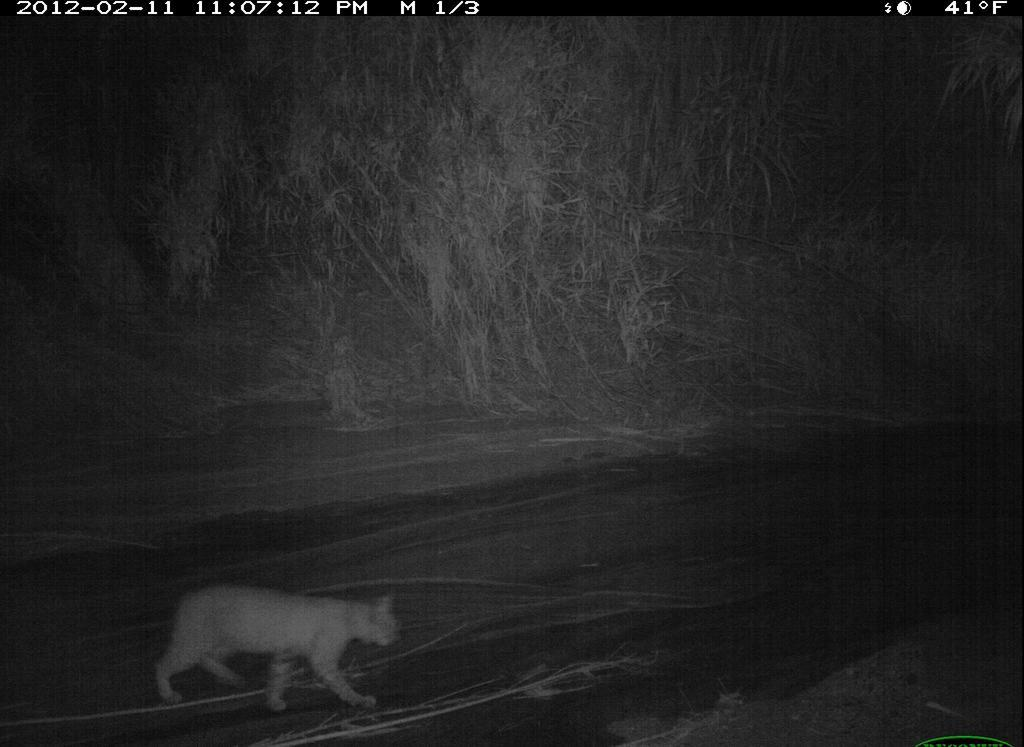bobcat: (143, 582, 410, 717)
